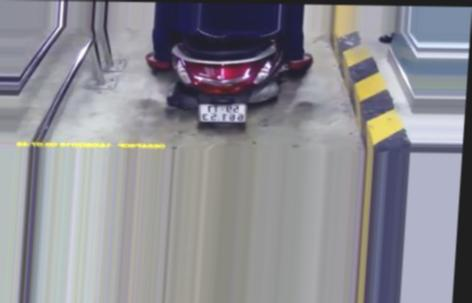License_Plate: (196, 100, 250, 128)
